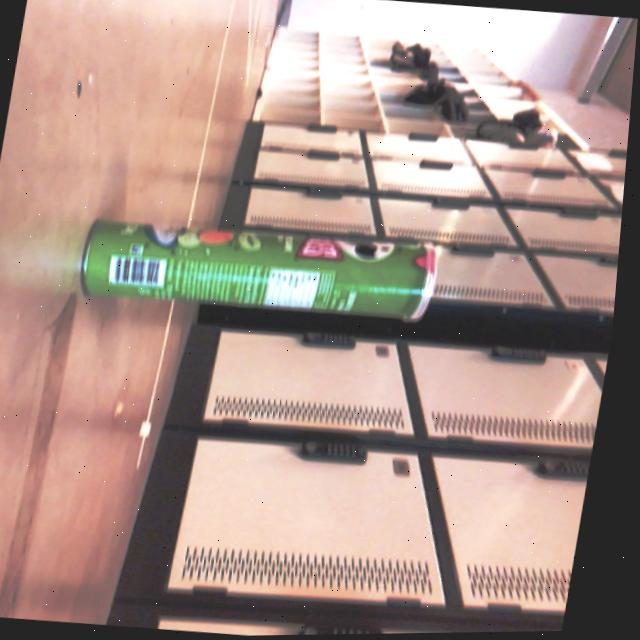greenpringles: (47, 188, 480, 360)
